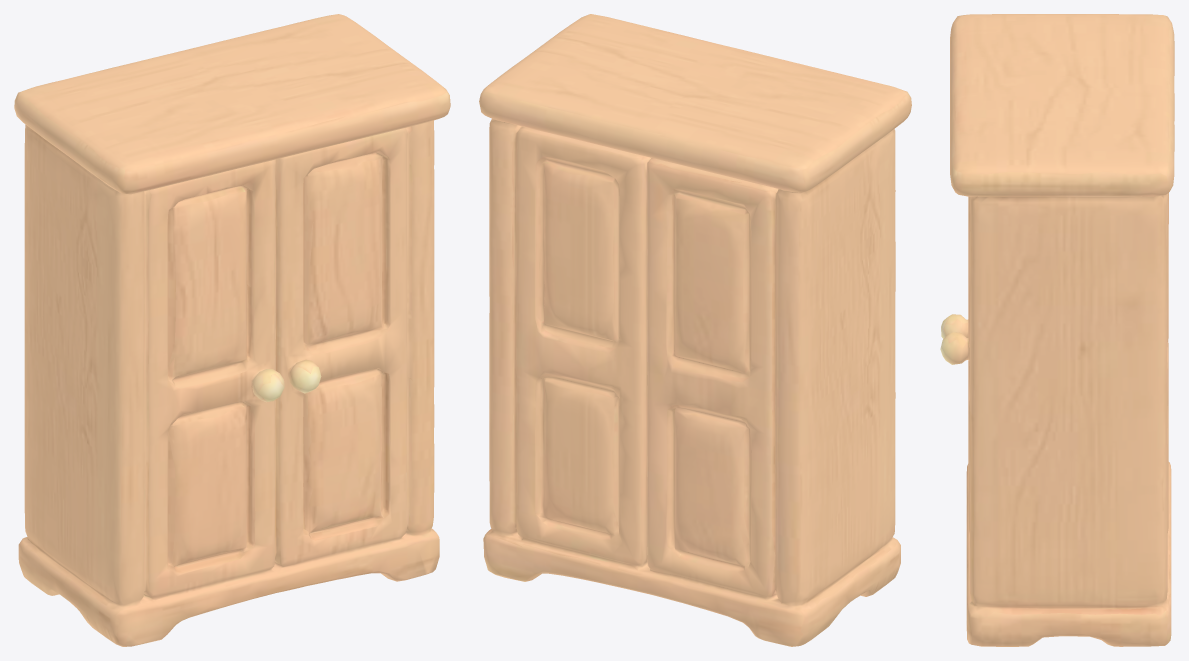
File: Mini_wood_wardrobe.glb
3 renders of one model, left to right at view 1: azimuth 30°, elevation 25°; view 2: azimuth 150°, elevation 25°; view 3: azimuth 270°, elevation 25°, orthographic.
Parts seen in each view (by area): view 1: Mesh_0; view 2: Mesh_0; view 3: Mesh_0.
Part boxes in pixels (x1,y1,x2,y2): Mesh_0: [14, 14, 450, 646]; Mesh_0: [479, 14, 911, 646]; Mesh_0: [940, 14, 1174, 646].
Bounding box in the file's own units: 1.38 × 1.91 × 0.8409.
Materials: 1 (1 with a texture image).
